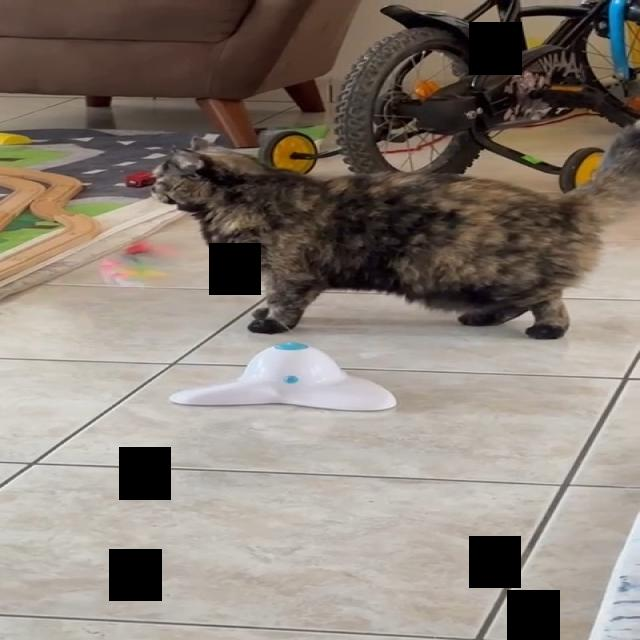authorized: (148, 118, 639, 340)
